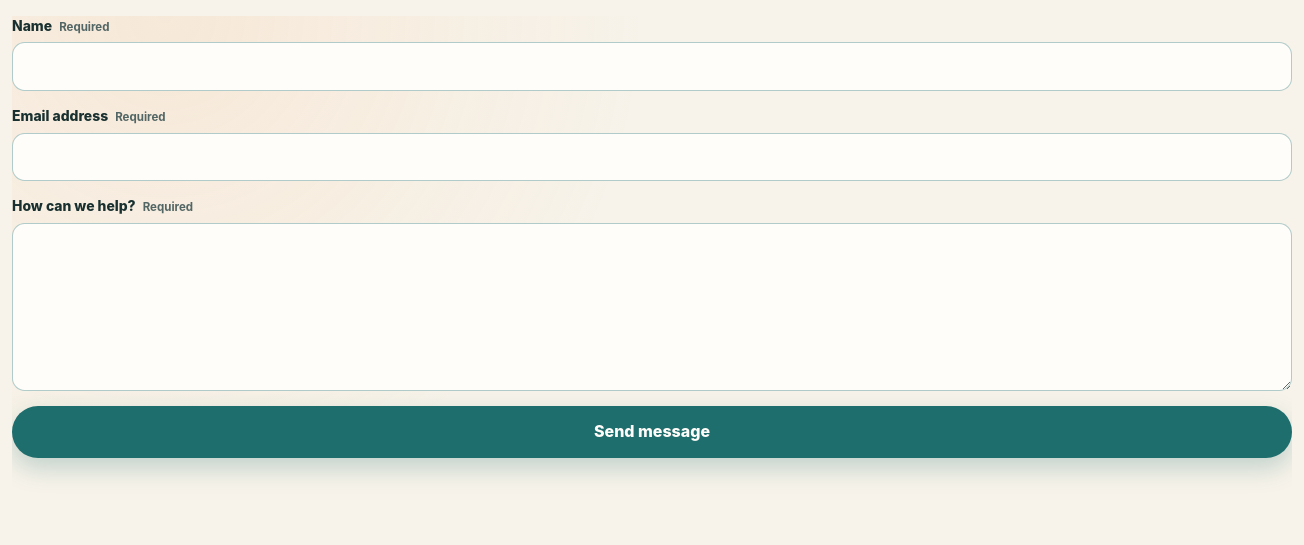
Test: ContactForm › shows a safe submission failure
This screenshot has width=1304, height=545.
Type "Pat" into the field labelled "Name Required" at [652, 67], box [12, 42, 1292, 91]
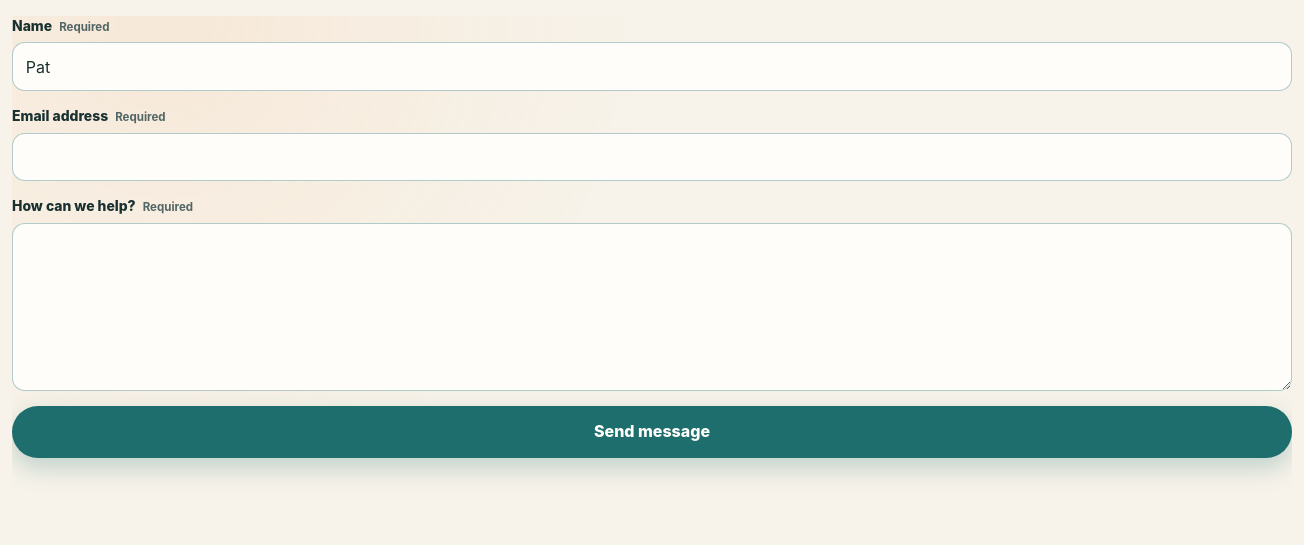
Type "pat@example.com" into the field labelled "Email address Required" at [652, 157], box [12, 132, 1292, 181]
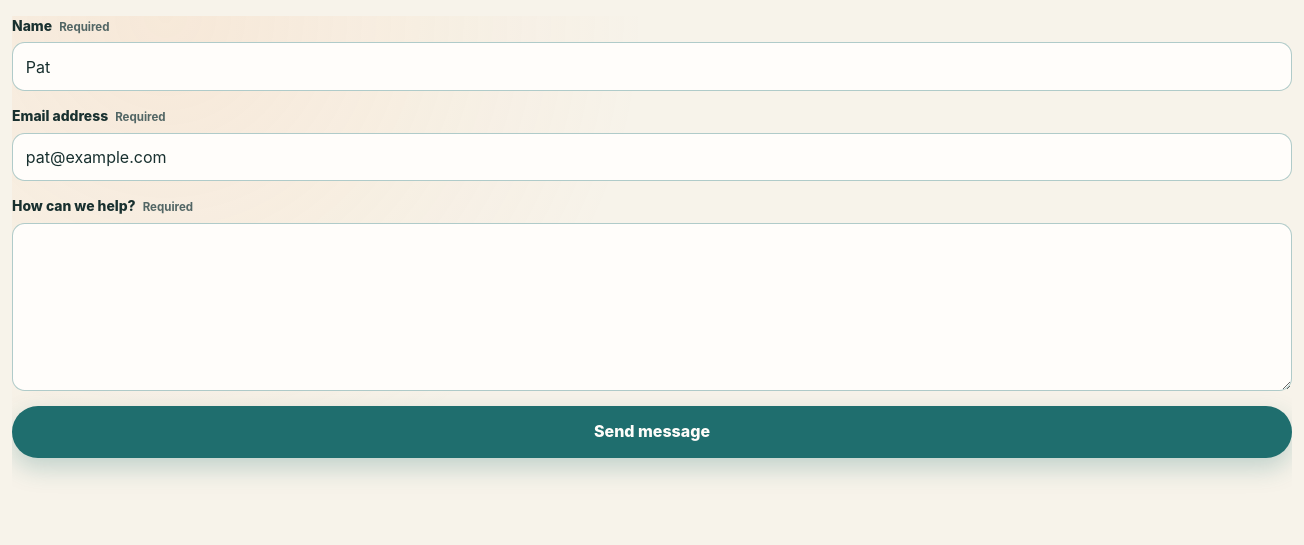
Type "Please help" into the text box labelled "How can we help? Required" at [652, 307], box [12, 222, 1292, 391]
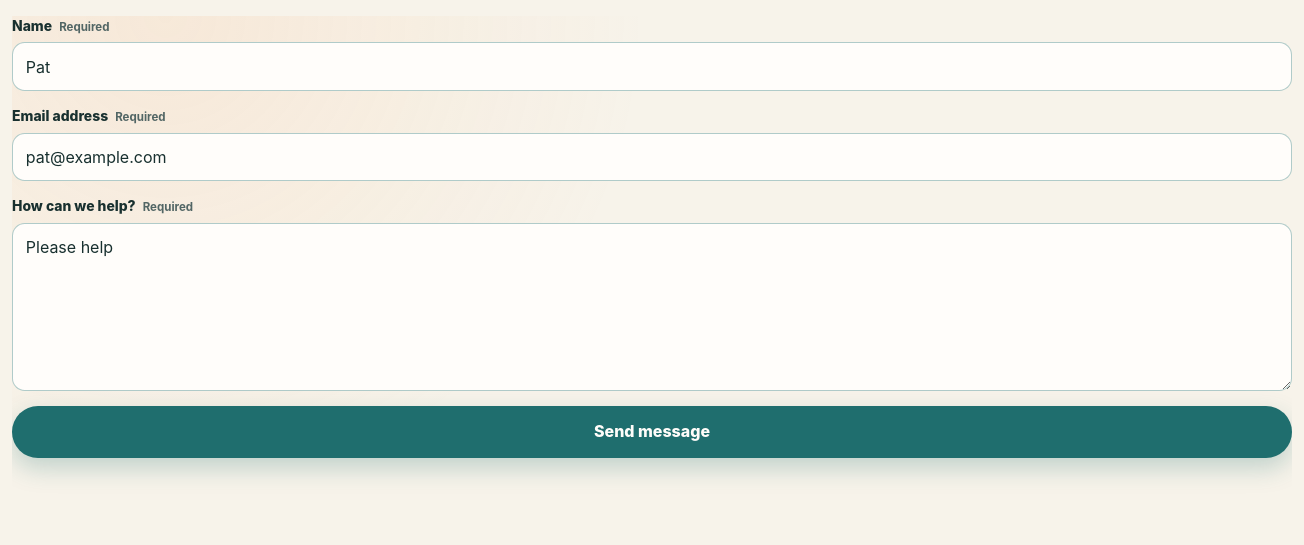
Submit the form "Send message"
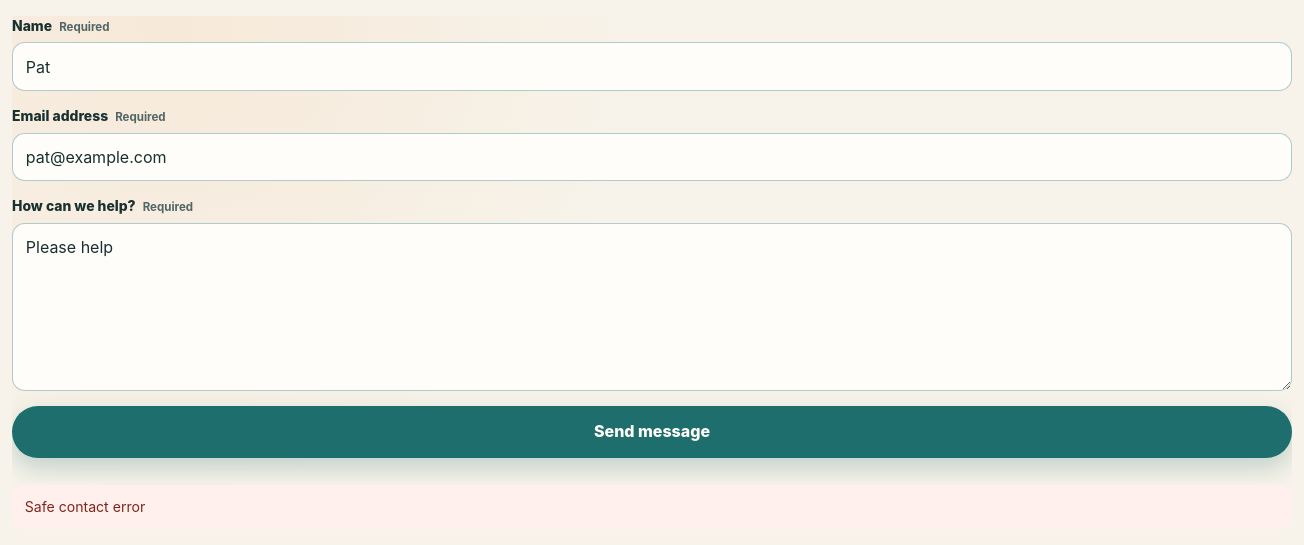
Expected: the text "Safe contact error" is shown, [12, 485, 1292, 529]
